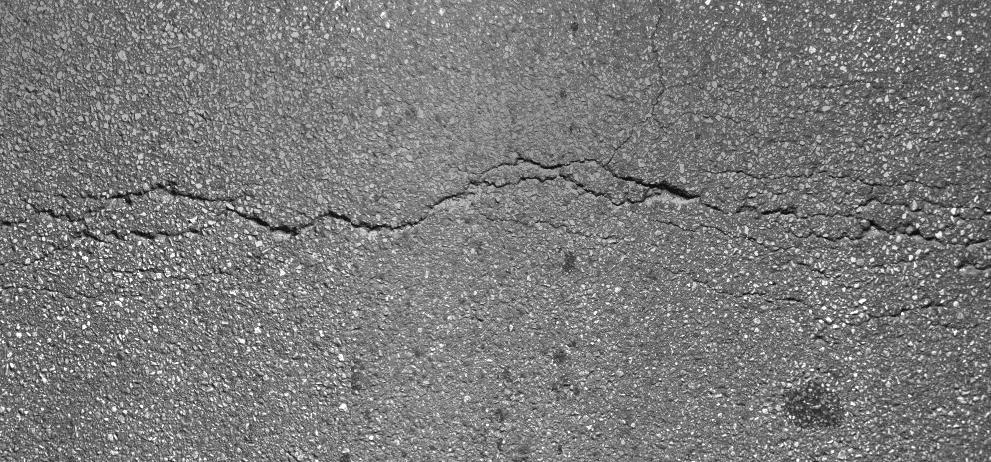crack: (6, 153, 991, 260), (703, 271, 991, 332)
